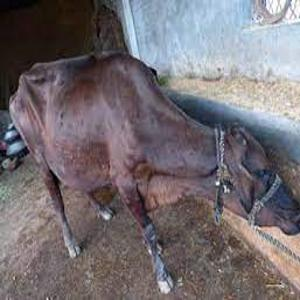lumpy skin diesease: (7, 50, 299, 294), (0, 109, 29, 176)
